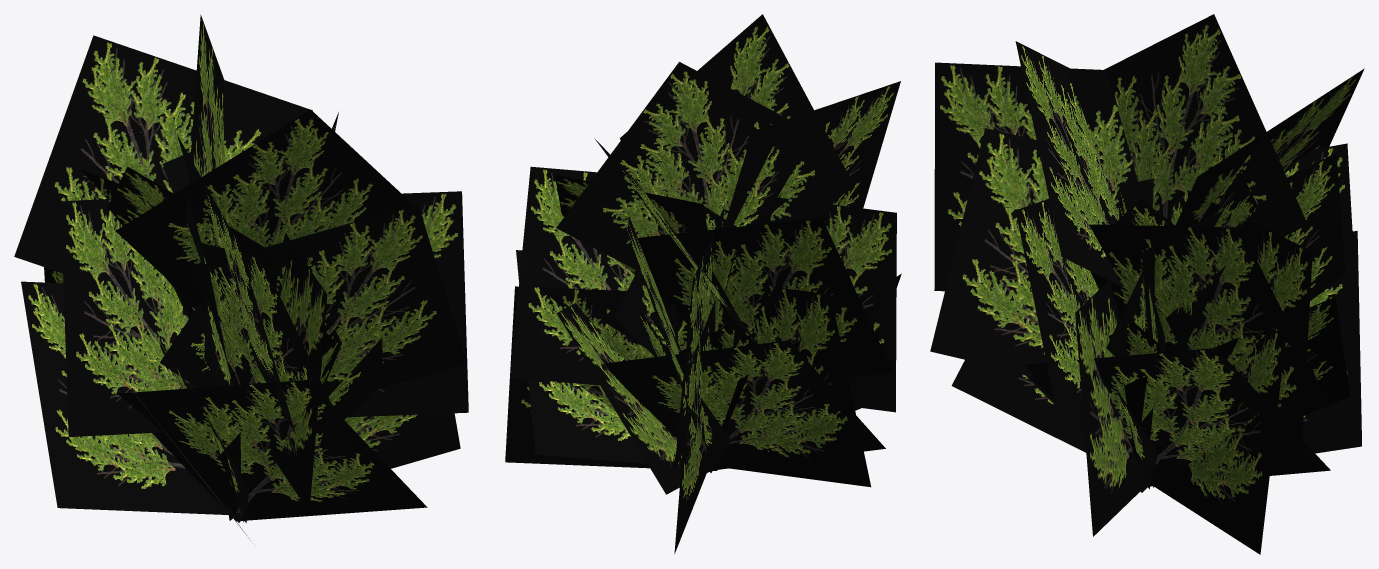
File: litGr.obj
3 views of the same model, side by side, from view 1: azimuth 30°, elevation 25°; view 2: azimuth 150°, elevation 25°; view 3: azimuth 270°, elevation 25° (orthographic). The views are drawn at different scales.
Parts seen in each view (by area): view 1: litGr; view 2: litGr; view 3: litGr.
Boxes of the visible parts, x1,y1,x2,y2 form: litGr: [14, 14, 468, 540]; litGr: [505, 14, 901, 554]; litGr: [930, 14, 1364, 554].
Bounding box in the file's own units: 1.05 × 1.24 × 1.02.
Materials: 1 (1 with a texture image).
